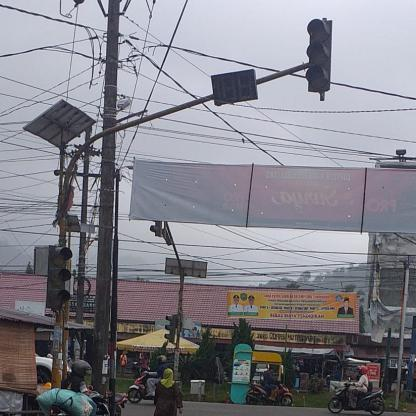green: (308, 20, 330, 92), (48, 244, 68, 310)
